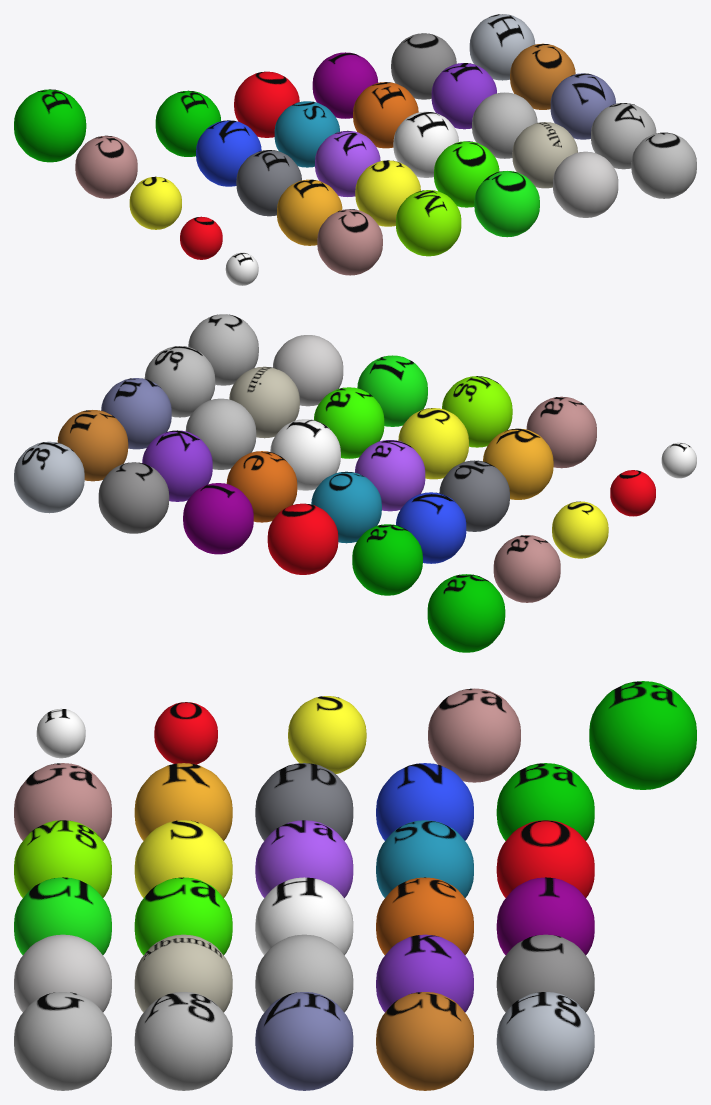
The model's file is Molecules.fbx.
3 views of the same model, one above another, from view 1: azimuth 30°, elevation 25°; view 2: azimuth 150°, elevation 25°; view 3: azimuth 270°, elevation 25° (orthographic). The views are drawn at different scales.
Visible parts, largest first — view 1: S_Molecule1, H_Molecule, Cl_Molecule, H_plus_Molecule, O_Molecule, O_Minus_Molecule, H_Molecule1, HCl_Molecule, Na_Plus_Molecule, SO4_2minus_Molecule, S_Molecule, R_Molecule (+18 smaller); view 2: S_Molecule1, S_Molecule, I_Molecule, polySurface4, polySurface5, I_Minus_Molecule, H_Molecule1, HCl_Molecule, Na_Plus_Molecule, H_Molecule, SO4_2minus_Molecule, K_Molecule (+18 smaller); view 3: S_Molecule1, N_Molecule, polySurface5, Cl_Minus_Molecule, Cl_Molecule, G_Molecule, H_Molecule1, I_Minus_Molecule, Na_Molecule, S_Molecule, I_Molecule, Zn_Molecule (+18 smaller).
Part boxes in pixels (<box>): S_Molecule1: <box>14,89,86,162</box>; H_Molecule: <box>317,209,382,275</box>; Cl_Molecule: <box>631,132,696,198</box>; H_plus_Molecule: <box>396,190,461,256</box>; O_Molecule: <box>474,171,539,237</box>; O_Minus_Molecule: <box>553,151,618,217</box>; H_Molecule1: <box>75,135,137,198</box>; HCl_Molecule: <box>196,120,261,186</box>; Na_Plus_Molecule: <box>277,179,342,245</box>; SO4_2minus_Molecule: <box>236,150,301,216</box>; S_Molecule: <box>155,90,220,156</box>; R_Molecule: <box>274,101,339,167</box>; S_Molecule1: <box>427,574,505,652</box>; S_Molecule: <box>352,524,422,595</box>; I_Molecule: <box>267,503,338,574</box>; polySurface4: <box>98,462,169,533</box>; polySurface5: <box>14,441,84,513</box>; I_Minus_Molecule: <box>183,483,253,554</box>; H_Molecule1: <box>493,535,560,602</box>; HCl_Molecule: <box>396,492,466,563</box>; Na_Plus_Molecule: <box>483,428,553,499</box>; H_Molecule: <box>526,396,596,468</box>; SO4_2minus_Molecule: <box>439,460,509,531</box>; K_Molecule: <box>226,451,297,522</box>; S_Molecule1: <box>589,681,696,789</box>; N_Molecule: <box>255,992,353,1090</box>; polySurface5: <box>496,992,594,1090</box>; Cl_Minus_Molecule: <box>134,992,232,1090</box>; Cl_Molecule: <box>14,992,111,1090</box>; G_Molecule: <box>376,992,473,1090</box>; H_Molecule1: <box>428,688,520,782</box>; I_Minus_Molecule: <box>496,877,594,955</box>; Na_Molecule: <box>134,820,232,897</box>; S_Molecule: <box>496,763,594,840</box>; I_Molecule: <box>496,820,594,897</box>; Zn_Molecule: <box>255,820,353,897</box>.
Bounding box in the file's own units: 16.65 × 2.2 × 13.73.
1 material, 1 textured.
